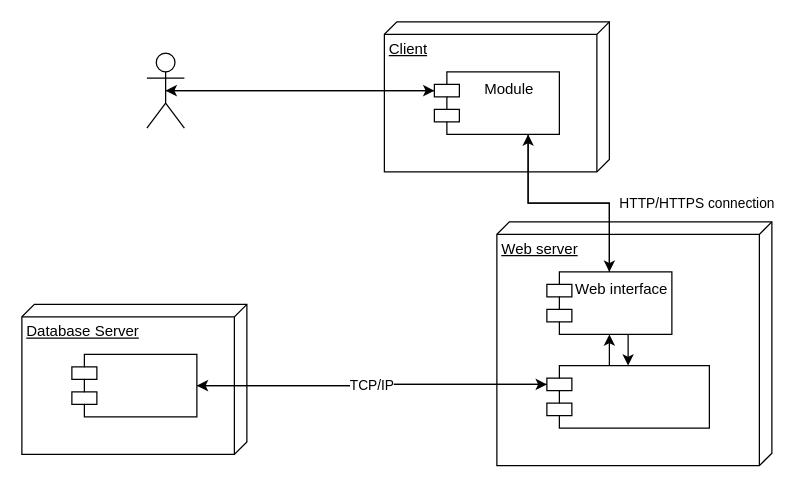
Some shapes in this 796 by 488 pixel diagram are drawn without their labels. Each missing label, with the centre of its shape:
"Database interface" belongs at (627,396).
"PostgreSQL" belongs at (134,385).
"User" belongs at (165,90).
